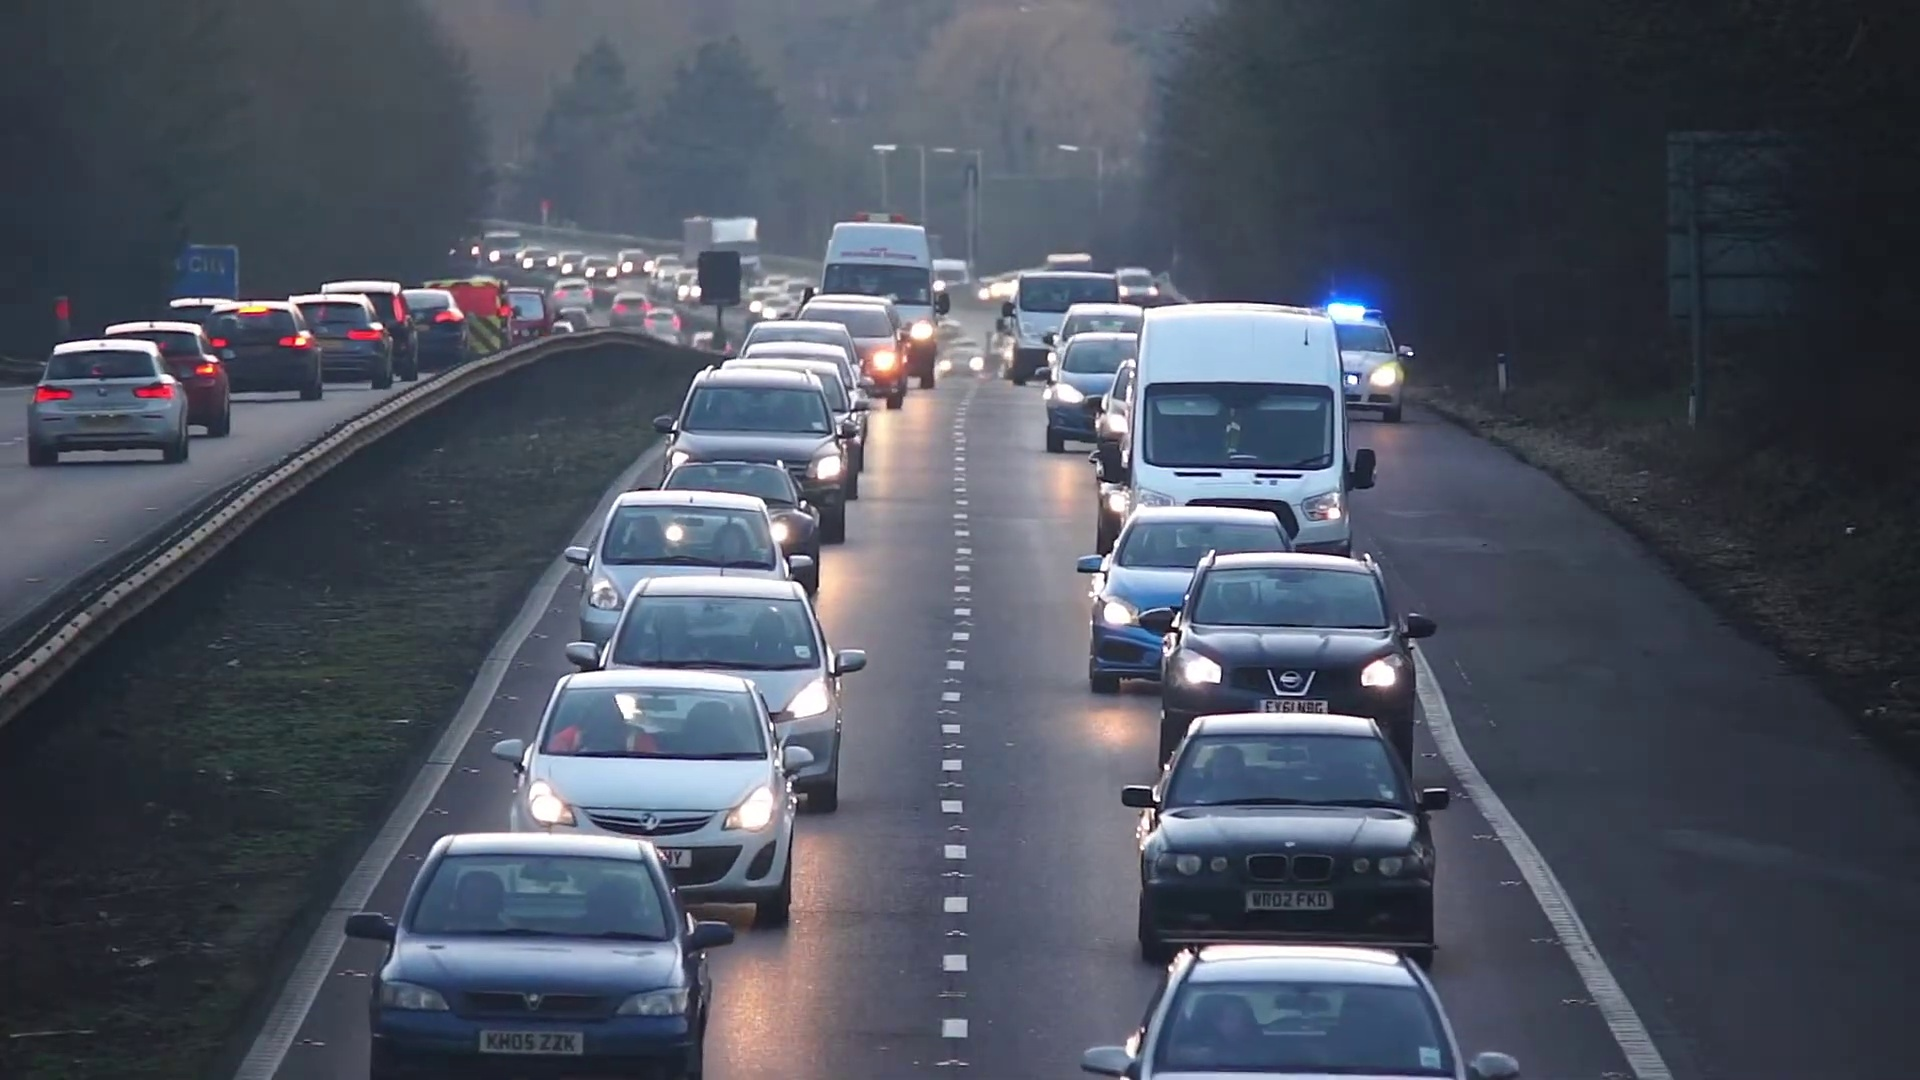license_plate: (473, 1030, 583, 1056), (1243, 887, 1338, 910)
